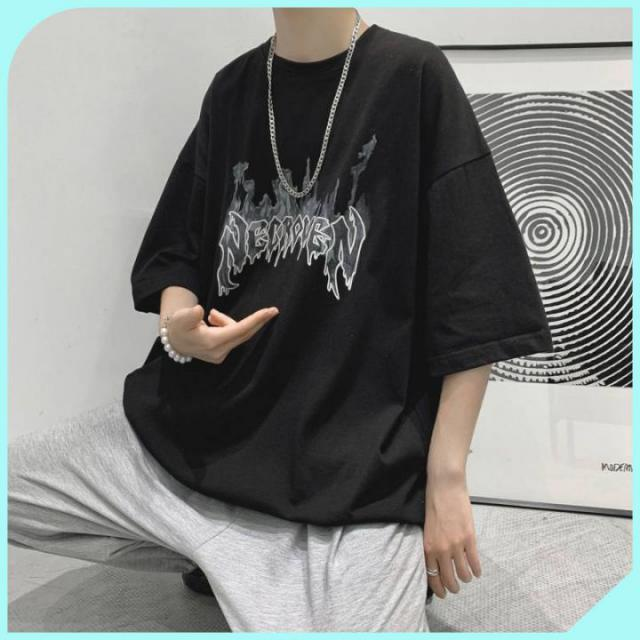Shirt: (125, 23, 555, 527)
